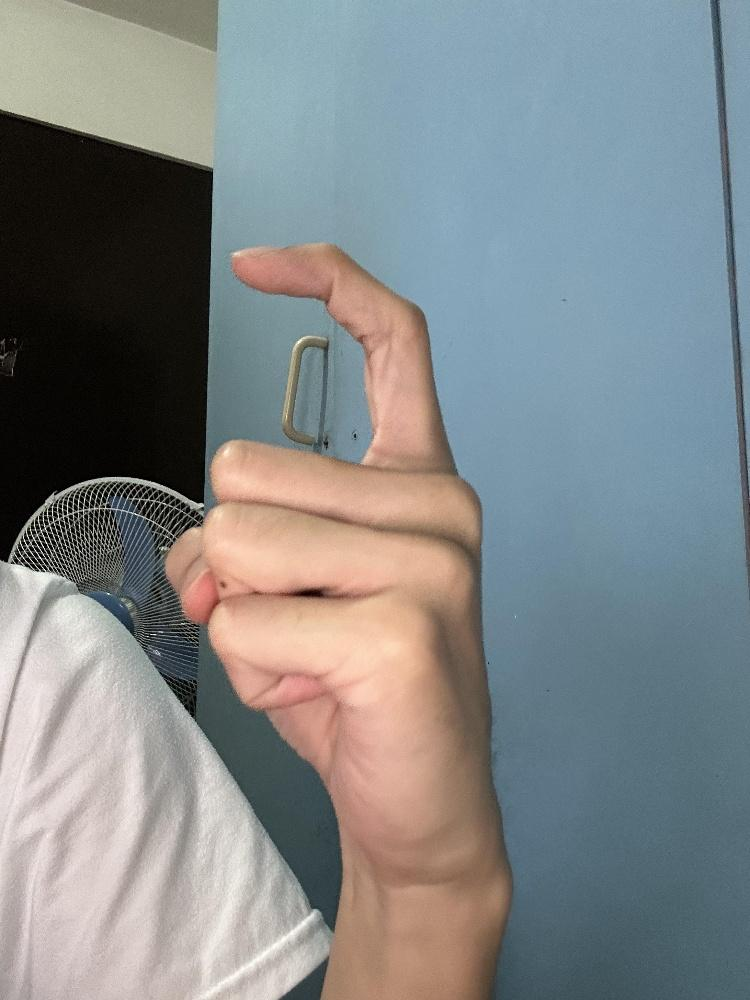x: (161, 237, 509, 894)
